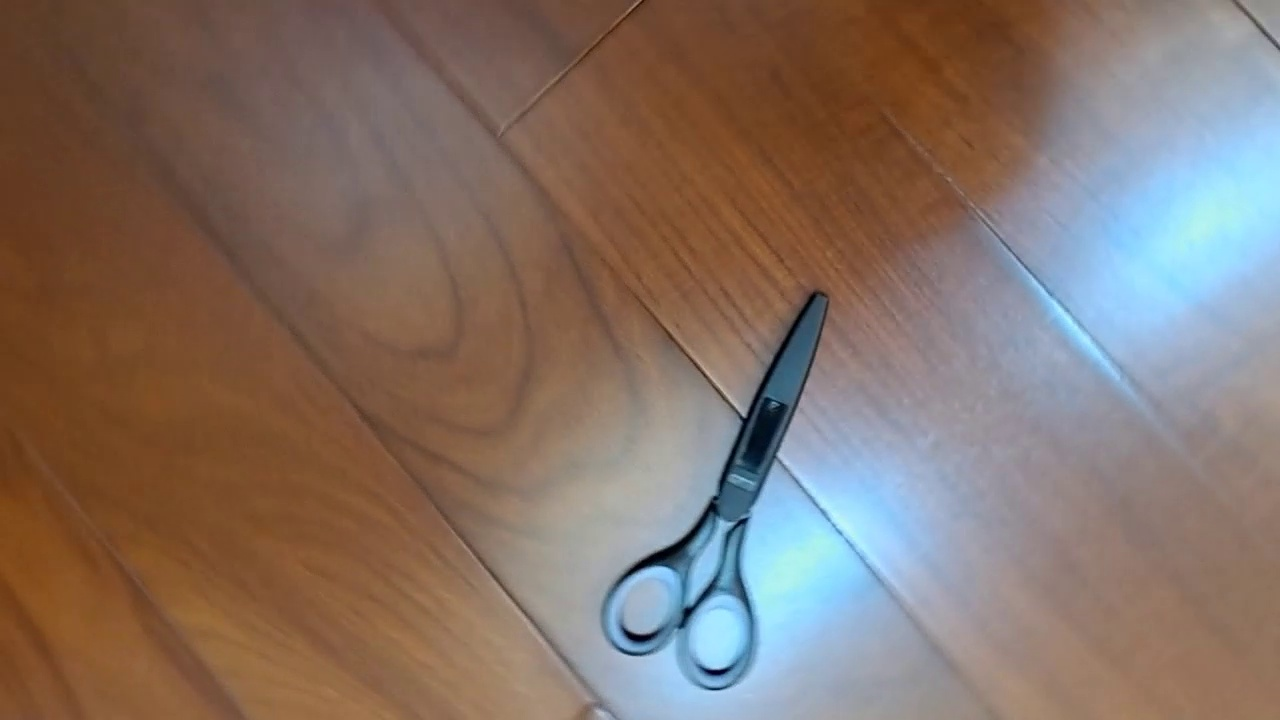scissors: (599, 288, 830, 691)
